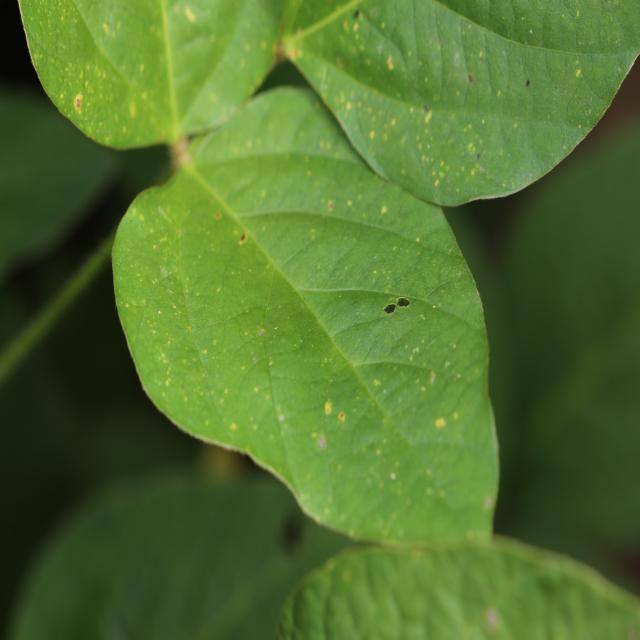Soybean: (23, 0, 635, 555)
downey_mildew: (297, 276, 494, 533), (116, 172, 292, 457), (228, 200, 361, 444), (353, 4, 584, 125), (520, 295, 640, 507), (429, 210, 500, 534), (3, 230, 126, 400), (255, 214, 458, 317), (505, 2, 638, 159), (375, 97, 558, 200), (172, 2, 292, 137), (222, 416, 367, 526), (207, 152, 384, 240), (215, 207, 327, 345), (287, 4, 418, 112), (173, 540, 313, 639), (347, 458, 490, 549), (490, 551, 640, 637), (321, 293, 471, 376), (80, 3, 176, 132), (178, 195, 269, 331), (141, 376, 271, 471), (202, 297, 298, 410), (300, 72, 384, 183), (114, 192, 186, 312), (303, 555, 403, 637), (25, 10, 100, 119), (342, 361, 467, 422), (173, 198, 205, 415), (263, 340, 334, 436), (258, 258, 290, 466), (548, 1, 640, 71), (328, 533, 498, 568), (439, 216, 486, 342), (423, 157, 552, 202), (127, 352, 198, 433), (188, 303, 234, 427), (364, 251, 456, 310), (239, 55, 326, 117), (511, 114, 587, 180), (429, 7, 479, 107), (113, 139, 184, 206), (413, 568, 480, 638), (461, 193, 516, 276), (431, 2, 534, 46), (477, 359, 502, 529), (289, 2, 378, 48), (153, 0, 180, 142), (264, 232, 341, 281), (508, 7, 545, 108), (351, 290, 441, 331), (205, 302, 272, 350), (211, 222, 253, 298), (486, 33, 606, 59), (330, 318, 412, 355), (297, 286, 417, 311), (287, 570, 329, 639), (192, 428, 259, 465), (268, 1, 295, 73), (181, 114, 236, 148), (344, 577, 378, 632), (261, 256, 279, 358), (276, 587, 306, 640), (346, 535, 394, 552), (172, 134, 192, 169), (320, 393, 330, 460), (425, 278, 455, 299), (280, 34, 301, 64), (156, 268, 177, 284), (275, 41, 290, 63), (244, 444, 256, 458)
